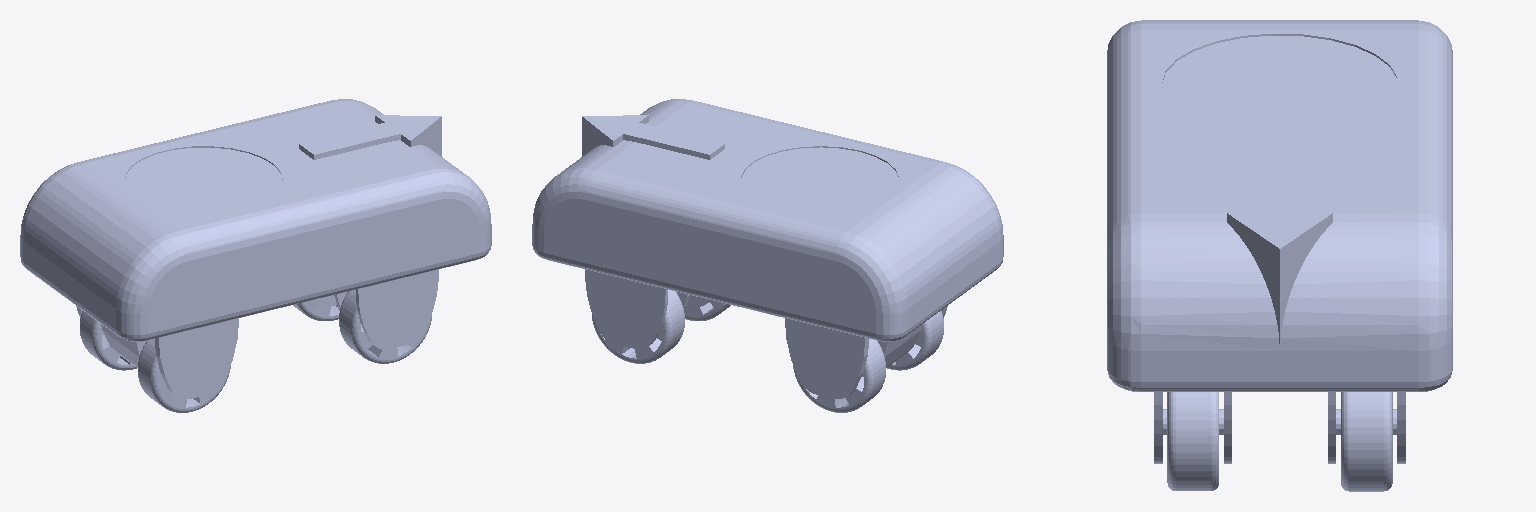
The robot description file, URDF, robot "project1_car_v4":
<?xml version="1.0" encoding="utf-8"?>
<!-- This URDF was automatically created by SolidWorks to URDF Exporter! Originally created by [author] ([email redacted]) 
     Commit Version: 1.6.0-4-g7f85cfe  Build Version: 1.6.7995.38578
     For more information, please see http://wiki.ros.org/sw_urdf_exporter -->
<robot
  name="project1_car_v4">
  <link 
    name = "dummy_link">
  </link>
  <joint 
    name = "dummy_joint" type="fixed">
    <parent
      link="dummy_link" />
    <child
      link="base_link" />
  </joint>
  <link
    name="base_link">
    <inertial>
      <origin
        xyz="-0.0168034157007119 -2.97545315225082E-07 0.33822007318947"
        rpy="0 0 0" />
      <mass
        value="110.079916239358" />
      <inertia
        ixx="2.91066349346096"
        ixy="8.21202892497876E-06"
        ixz="-0.38120552402966"
        iyy="8.11958261244321"
        iyz="1.22514933980838E-05"
        izz="9.61969422394006" />
    </inertial>
    <visual>
      <origin
        xyz="0 0 0"
        rpy="0 0 0" />
      <geometry>
        <mesh
          filename="package://project1_car_v4/meshes/base_link.STL" />
      </geometry>
      <material
        name="">
        <color
          rgba="0.792156862745098 0.819607843137255 0.933333333333333 1" />
      </material>
    </visual>
    <collision>
      <origin
        xyz="0 0 0"
        rpy="0 0 0" />
      <geometry>
        <mesh
          filename="package://project1_car_v4/meshes/base_link.STL" />
      </geometry>
    </collision>
  </link>
  <link
    name="right_drive_wheel_link">
    <inertial>
      <origin
        xyz="0 -9.43689570931383E-16 0.0380999999999999"
        rpy="0 0 0" />
      <mass
        value="1.75240248504678" />
      <inertia
        ixx="0.00570047723376501"
        ixy="5.16160702233089E-18"
        ixz="-2.08772445674461E-20"
        iyy="0.00570047723376501"
        iyz="8.25716502868809E-18"
        izz="0.00977063549749721" />
    </inertial>
    <visual>
      <origin
        xyz="0 0 0"
        rpy="0 0 0" />
      <geometry>
        <mesh
          filename="package://project1_car_v4/meshes/right_drive_wheel_link.STL" />
      </geometry>
      <material
        name="">
        <color
          rgba="0.792156862745098 0.819607843137255 0.933333333333333 1" />
      </material>
    </visual>
    <collision>
      <origin
        xyz="0 0 0"
        rpy="0 0 0" />
      <geometry>
        <mesh
          filename="package://project1_car_v4/meshes/right_drive_wheel_link.STL" />
      </geometry>
    </collision>
  </link>
  <joint
    name="right_drive_wheel_joint"
    type="continuous">
    <origin
      xyz="-0.253999999999996 -0.165099999999998 0.101600000000001"
      rpy="1.5707963267949 0 3.14159265358979" />
    <parent
      link="base_link" />
    <child
      link="right_drive_wheel_link" />
    <axis
      xyz="0 0 -1" />
  </joint>
  <link
    name="left_drive_wheel_link">
    <inertial>
      <origin
        xyz="5.55111512312578E-16 6.38378239159465E-16 -0.0381000000000001"
        rpy="0 0 0" />
      <mass
        value="1.75240248504678" />
      <inertia
        ixx="0.00570047723376502"
        ixy="1.41199730562802E-18"
        ixz="5.32989691795481E-18"
        iyy="0.00570047723376501"
        iyz="6.38314599191858E-18"
        izz="0.00977063549749721" />
    </inertial>
    <visual>
      <origin
        xyz="0 0 0"
        rpy="0 0 0" />
      <geometry>
        <mesh
          filename="package://project1_car_v4/meshes/left_drive_wheel_link.STL" />
      </geometry>
      <material
        name="">
        <color
          rgba="0.792156862745098 0.819607843137255 0.933333333333333 1" />
      </material>
    </visual>
    <collision>
      <origin
        xyz="0 0 0"
        rpy="0 0 0" />
      <geometry>
        <mesh
          filename="package://project1_car_v4/meshes/left_drive_wheel_link.STL" />
      </geometry>
    </collision>
  </link>
  <joint
    name="left_drive_wheel_joint"
    type="continuous">
    <origin
      xyz="-0.253999999999996 0.165099999999997 0.101599999999999"
      rpy="1.5707963267949 0 3.14159265358979" />
    <parent
      link="base_link" />
    <child
      link="left_drive_wheel_link" />
    <axis
      xyz="0 0 -1" />
  </joint>
  <link
    name="right_steering_link">
    <inertial>
      <origin
        xyz="5.27355936696949E-15 8.32667268468867E-17 -0.142377575703689"
        rpy="0 0 0" />
      <mass
        value="1.29524534065669" />
      <inertia
        ixx="0.00761187080773897"
        ixy="-3.20159068021187E-07"
        ixz="1.22593500715696E-16"
        iyy="0.00832491204385649"
        iyz="-6.19619250157339E-19"
        izz="0.00527306173535413" />
    </inertial>
    <visual>
      <origin
        xyz="0 0 0"
        rpy="0 0 0" />
      <geometry>
        <mesh
          filename="package://project1_car_v4/meshes/right_steering_link.STL" />
      </geometry>
      <material
        name="">
        <color
          rgba="0.792156862745098 0.819607843137255 0.933333333333333 1" />
      </material>
    </visual>
    <collision>
      <origin
        xyz="0 0 0"
        rpy="0 0 0" />
      <geometry>
        <mesh
          filename="package://project1_car_v4/meshes/right_steering_link.STL" />
      </geometry>
    </collision>
  </link>
  <joint
    name="right_steering_joint"
    type="revolute">
    <origin
      xyz="0.254 -0.127 0.3175"
      rpy="0 0 0" />
    <parent
      link="base_link" />
    <child
      link="right_steering_link" />
    <axis
      xyz="0 0 1" />
    <limit
      lower="-1.57"
      upper="1.57"
      effort="1000"
      velocity="1000" />
  </joint>
  <link
    name="front_right_wheel_link">
    <inertial>
      <origin
        xyz="1.7177469301799E-05 -7.49400541621981E-16 0.0380999961277496"
        rpy="0 0 0" />
      <mass
        value="1.75240248504678" />
      <inertia
        ixx="0.00570047806109679"
        ixy="-2.91167575618667E-19"
        ixz="1.83503967244328E-06"
        iyy="0.00570047723376502"
        iyz="6.33684972700976E-18"
        izz="0.00977063467016543" />
    </inertial>
    <visual>
      <origin
        xyz="0 0 0"
        rpy="0 0 0" />
      <geometry>
        <mesh
          filename="package://project1_car_v4/meshes/front_right_wheel_link.STL" />
      </geometry>
      <material
        name="">
        <color
          rgba="0.792156862745098 0.819607843137255 0.933333333333333 1" />
      </material>
    </visual>
    <collision>
      <origin
        xyz="0 0 0"
        rpy="0 0 0" />
      <geometry>
        <mesh
          filename="package://project1_car_v4/meshes/front_right_wheel_link.STL" />
      </geometry>
    </collision>
  </link>
  <joint
    name="front_right_wheel_joint"
    type="continuous">
    <origin
      xyz="1.7177E-05 -0.0381 -0.2159"
      rpy="1.5708 0 3.1416" />
    <parent
      link="right_steering_link" />
    <child
      link="front_right_wheel_link" />
    <axis
      xyz="-0.00045085 0 -1" />
  </joint>
  <link
    name="left_steering_link">
    <inertial>
      <origin
        xyz="1.13242748511766E-14 -2.77555756156289E-17 -0.142377575703689"
        rpy="0 0 0" />
      <mass
        value="1.29524534065669" />
      <inertia
        ixx="0.00761187077077747"
        ixy="-2.75947004352568E-07"
        ixz="1.59649811826322E-16"
        iyy="0.008324912080818"
        iyz="7.2748852426765E-19"
        izz="0.00527306173535413" />
    </inertial>
    <visual>
      <origin
        xyz="0 0 0"
        rpy="0 0 0" />
      <geometry>
        <mesh
          filename="package://project1_car_v4/meshes/left_steering_link.STL" />
      </geometry>
      <material
        name="">
        <color
          rgba="0.792156862745098 0.819607843137255 0.933333333333333 1" />
      </material>
    </visual>
    <collision>
      <origin
        xyz="0 0 0"
        rpy="0 0 0" />
      <geometry>
        <mesh
          filename="package://project1_car_v4/meshes/left_steering_link.STL" />
      </geometry>
    </collision>
  </link>
  <joint
    name="left_steering_joint"
    type="revolute">
    <origin
      xyz="0.254 0.127 0.3175"
      rpy="0 0 0" />
    <parent
      link="base_link" />
    <child
      link="left_steering_link" />
    <axis
      xyz="0 0 1" />
    <limit
      lower="-1.57"
      upper="1.57"
      effort="1000"
      velocity="1000" />
  </joint>
  <link
    name="front_left_wheel_link">
    <inertial>
      <origin
        xyz="-1.48150822438242E-05 -9.43689570931383E-16 -0.0380999971195974"
        rpy="0 0 0" />
      <mass
        value="1.75240248504678" />
      <inertia
        ixx="0.005700477849182"
        ixy="-5.26748614073768E-18"
        ixz="1.58266994393168E-06"
        iyy="0.00570047723376501"
        iyz="-9.11693267996659E-18"
        izz="0.00977063488208022" />
    </inertial>
    <visual>
      <origin
        xyz="0 0 0"
        rpy="0 0 0" />
      <geometry>
        <mesh
          filename="package://project1_car_v4/meshes/front_left_wheel_link.STL" />
      </geometry>
      <material
        name="">
        <color
          rgba="0.792156862745098 0.819607843137255 0.933333333333333 1" />
      </material>
    </visual>
    <collision>
      <origin
        xyz="0 0 0"
        rpy="0 0 0" />
      <geometry>
        <mesh
          filename="package://project1_car_v4/meshes/front_left_wheel_link.STL" />
      </geometry>
    </collision>
  </link>
  <joint
    name="front_left_wheel_joint"
    type="continuous">
    <origin
      xyz="-1.48150822311677E-05 0.0380999971195976 -0.215899999999999"
      rpy="1.5707963267949 0 3.14159265358979" />
    <parent
      link="left_steering_link" />
    <child
      link="front_left_wheel_link" />
    <axis
      xyz="0.000388847302987512 0 0.999999924398885" />
  </joint>
  <transmission name="right_drive_wheel_trans">
    <type>transmission_interface/SimpleTransmission</type>
    <joint name="right_drive_wheel_joint">
      <hardwareInterface>hardware_interface/VelocityJointInterface</hardwareInterface>
    </joint>
    <actuator name="right_drive_wheel_actuator">
      <mechanicalReduction>1</mechanicalReduction>
      <hardwareInterface>hardware_interface/VelocityJointInterface</hardwareInterface>
    </actuator>
  </transmission>
  <transmission name="left_drive_wheel_trans">
    <type>transmission_interface/SimpleTransmission</type>
    <joint name="left_drive_wheel_joint">
      <hardwareInterface>hardware_interface/VelocityJointInterface</hardwareInterface>
    </joint>
    <actuator name="left_drive_wheel_actuator">
      <mechanicalReduction>1</mechanicalReduction>
      <hardwareInterface>hardware_interface/VelocityJointInterface</hardwareInterface>
    </actuator>
  </transmission>
  <transmission name="right_steering_trans">
    <type>transmission_interface/SimpleTransmission</type>
    <joint name="right_steering_joint">
      <hardwareInterface>hardware_interface/EffortJointInterface</hardwareInterface>
    </joint>
    <actuator name="right_steering_actuator">
      <mechanicalReduction>1</mechanicalReduction>
      <hardwareInterface>hardware_interface/EffortJointInterface</hardwareInterface>
    </actuator>
  </transmission>
  <transmission name="left_steering_trans">
    <type>transmission_interface/SimpleTransmission</type>
    <joint name="left_steering_joint">
      <hardwareInterface>hardware_interface/EffortJointInterface</hardwareInterface>
    </joint>
    <actuator name="left_steering_actuator">
      <mechanicalReduction>1</mechanicalReduction>
      <hardwareInterface>hardware_interface/EffortJointInterface</hardwareInterface>
    </actuator>
  </transmission>
</robot>

--- Render facts (derived) ---
The picture shows the robot from 3 angles, left to right: view 1: azimuth 30°, elevation 25°; view 2: azimuth 150°, elevation 25°; view 3: azimuth 270°, elevation 25°; orthographic projection.
Robot: project1_car_v4 — 8 links, 7 joints (2 revolute, 4 continuous, 1 fixed); root link dummy_link; default pose: every joint at zero.
Visible links, largest first — view 1: base_link, right_steering_link, front_right_wheel_link, right_drive_wheel_link, left_drive_wheel_link, front_left_wheel_link; view 2: base_link, left_steering_link, front_left_wheel_link, left_drive_wheel_link, right_drive_wheel_link, front_right_wheel_link; view 3: base_link, front_left_wheel_link, front_right_wheel_link, right_steering_link, left_steering_link.
Boxes of the visible links, <box> form: base_link: <box>20,99,491,398</box>; right_steering_link: <box>334,269,438,349</box>; front_right_wheel_link: <box>339,290,431,363</box>; right_drive_wheel_link: <box>138,339,230,412</box>; left_drive_wheel_link: <box>80,311,136,370</box>; front_left_wheel_link: <box>293,300,339,320</box>; base_link: <box>532,99,1003,398</box>; left_steering_link: <box>585,269,689,349</box>; front_left_wheel_link: <box>592,290,684,363</box>; left_drive_wheel_link: <box>793,339,885,412</box>; right_drive_wheel_link: <box>887,311,943,370</box>; front_right_wheel_link: <box>684,300,730,320</box>; base_link: <box>1107,20,1452,391</box>; front_left_wheel_link: <box>1341,392,1392,491</box>; front_right_wheel_link: <box>1167,392,1218,490</box>; right_steering_link: <box>1154,392,1231,463</box>; left_steering_link: <box>1328,392,1405,463</box>.
Bounding box of the posed robot: 0.9403 × 0.508 × 0.4825 m (x, y, z).
Meshes: 7 distinct files referenced, 7 mesh visuals loaded (7 binary STL).